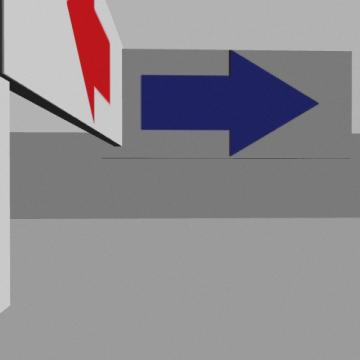blue_right: (141, 51, 318, 155)
red_left: (67, 0, 110, 122)
